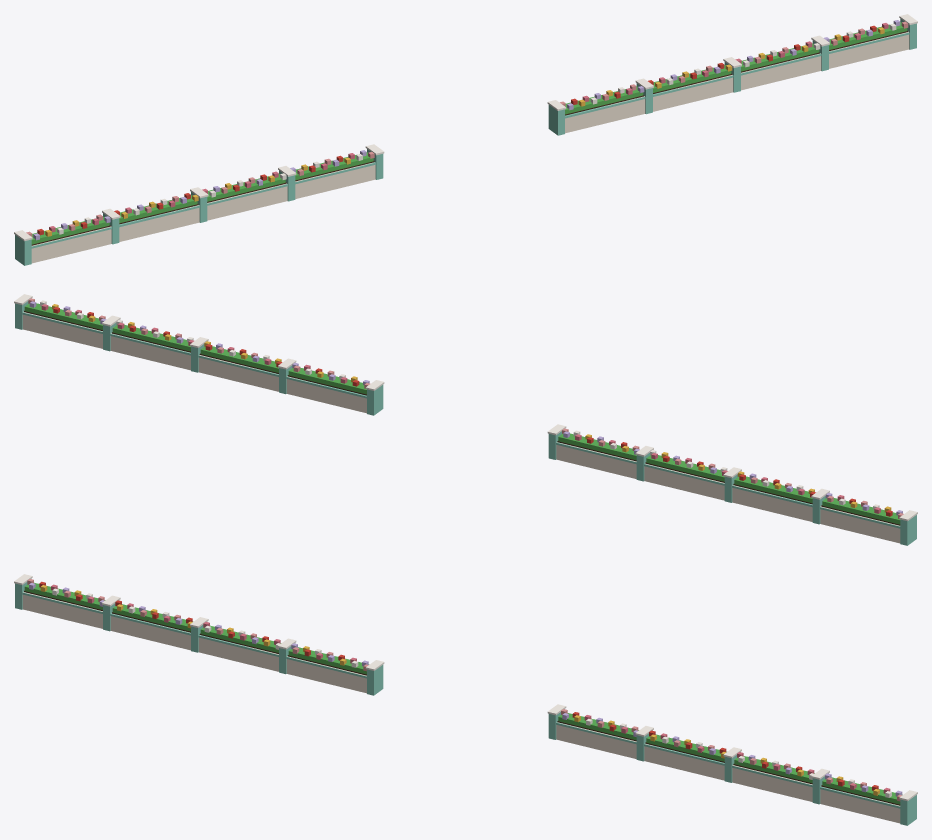
File: CatCafe_Lawn_Fence_FlowerBoxFence.fbx
3 views of the same model, one above another, from view 1: azimuth 30°, elevation 25°; view 2: azimuth 150°, elevation 25°; view 3: azimuth 330°, elevation 25° (orthographic).
Parts seen in each view (by area): view 1: CatCafe_Lawn_Fence_FlowerBoxFence, CatCafe_Lawn_Fence_FlowerBoxFence_Flowers; view 2: CatCafe_Lawn_Fence_FlowerBoxFence, CatCafe_Lawn_Fence_FlowerBoxFence_Flowers; view 3: CatCafe_Lawn_Fence_FlowerBoxFence, CatCafe_Lawn_Fence_FlowerBoxFence_Flowers.
Boxes of the visible parts, <box> form: CatCafe_Lawn_Fence_FlowerBoxFence: <box>14,14,917,265</box>; CatCafe_Lawn_Fence_FlowerBoxFence_Flowers: <box>26,20,908,240</box>; CatCafe_Lawn_Fence_FlowerBoxFence: <box>14,294,917,545</box>; CatCafe_Lawn_Fence_FlowerBoxFence_Flowers: <box>28,298,903,518</box>; CatCafe_Lawn_Fence_FlowerBoxFence: <box>14,574,917,825</box>; CatCafe_Lawn_Fence_FlowerBoxFence_Flowers: <box>27,579,902,801</box>.
Bounding box in the file's own units: 38.36 × 1.1 × 0.76.
Materials: 1 (1 with a texture image).
